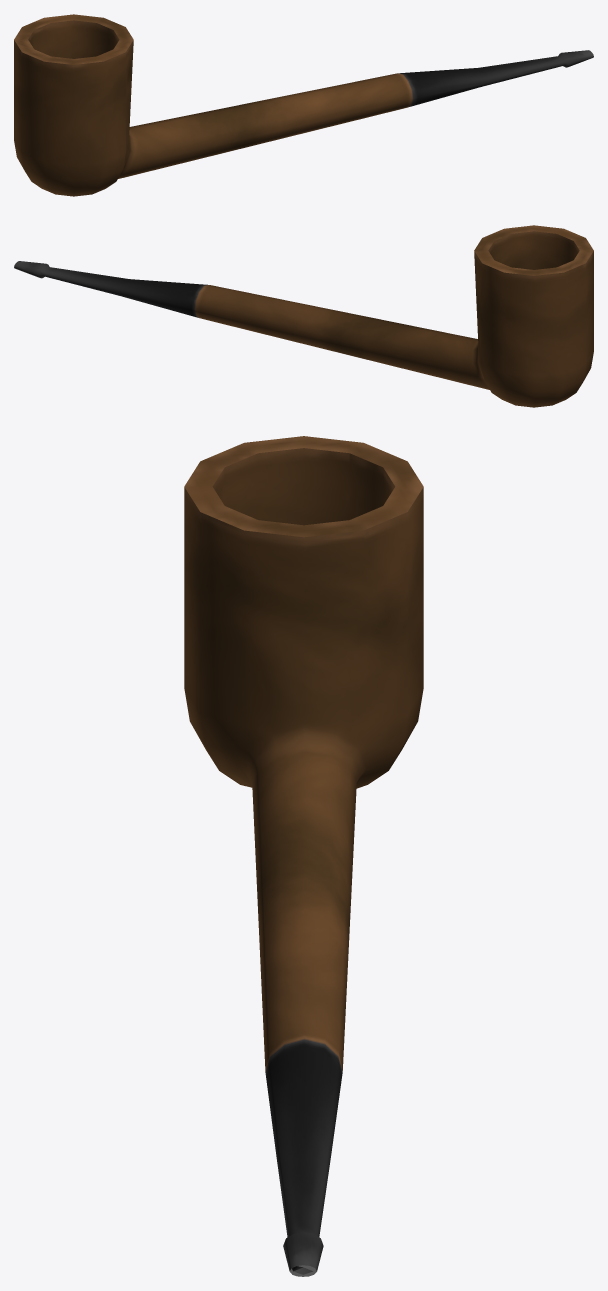
File: SmokePipe_2.fbx
3 renders of one model, top to bottom at view 1: azimuth 30°, elevation 25°; view 2: azimuth 150°, elevation 25°; view 3: azimuth 270°, elevation 25°, orthographic. The views are drawn at different scales.
Visible parts, largest first — view 1: SmokePipe_2; view 2: SmokePipe_2; view 3: SmokePipe_2.
Boxes of the visible parts, x1,y1,x2,y2 form: SmokePipe_2: [14, 14, 593, 196]; SmokePipe_2: [14, 225, 593, 407]; SmokePipe_2: [184, 436, 423, 1276].
Size of the model in its own units: 0.1541 by 0.0382 by 0.0281.
